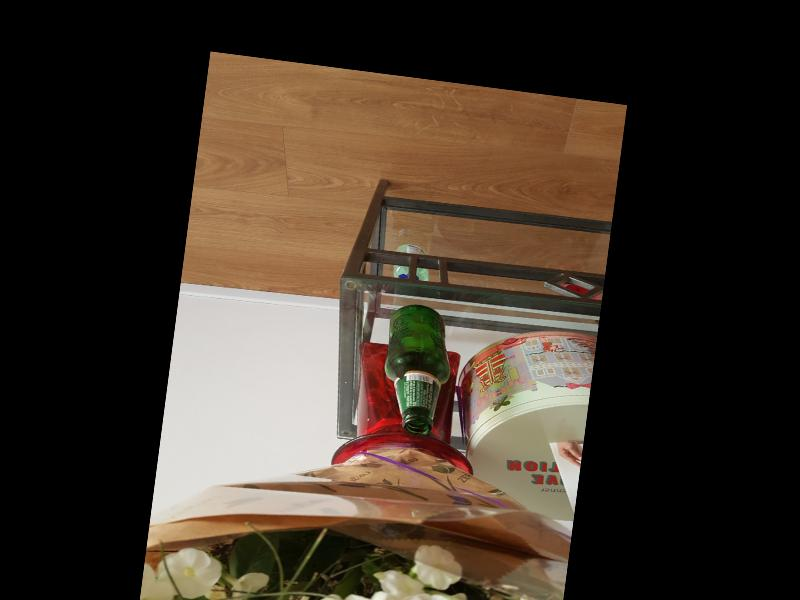Beer: (375, 300, 458, 437)
